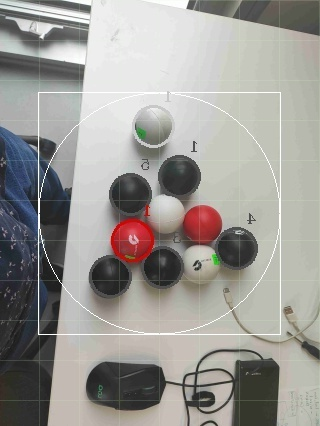Pelota blanca: (183, 347, 236, 413), (133, 103, 175, 147), (146, 193, 185, 235), (183, 244, 222, 283), (157, 382, 191, 425)
Pelota negra: (85, 361, 167, 411), (157, 153, 204, 198), (87, 254, 132, 299), (133, 103, 175, 150), (109, 172, 153, 216), (218, 225, 260, 270), (141, 246, 185, 288)
Pelota roja: (109, 217, 156, 264), (183, 204, 225, 243)
